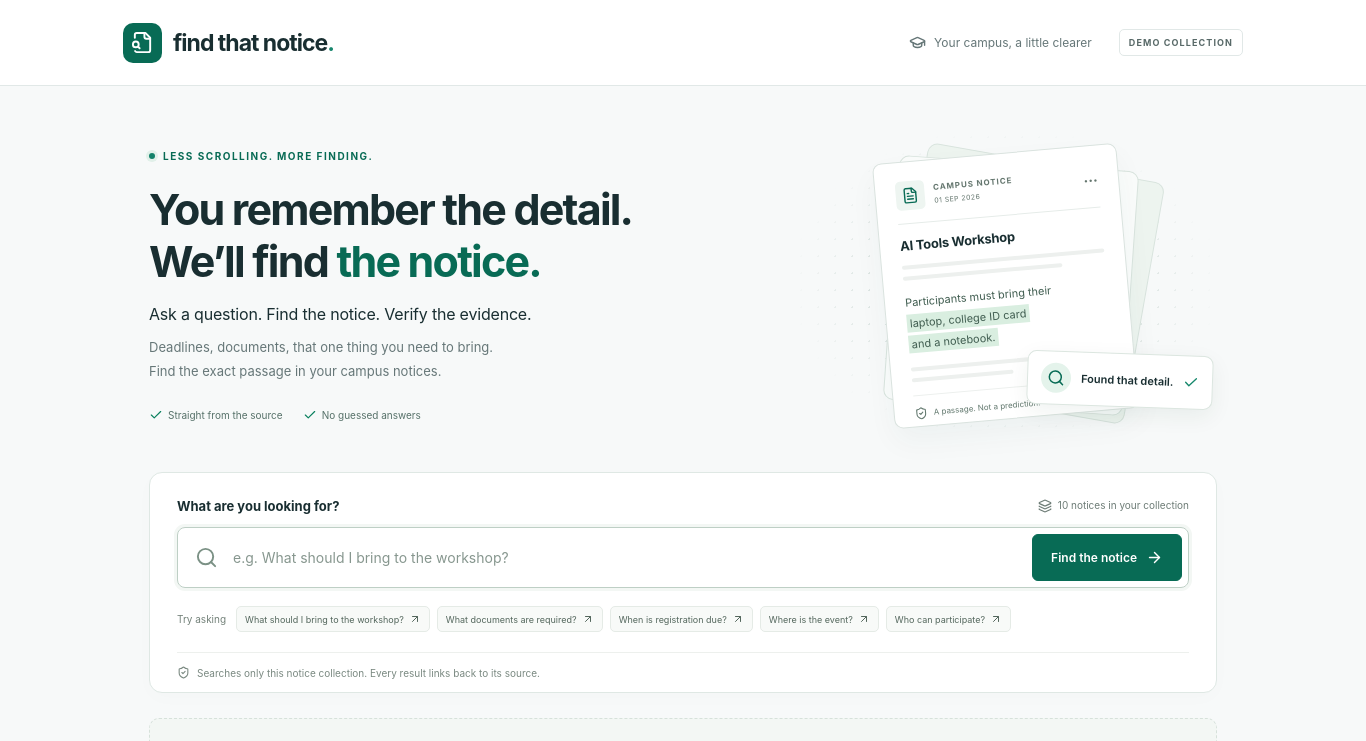
it: Evidence search › submits with the keyboard and rejects an empty question
Click the field at coordinates (625, 558), box [231,536,1019,580]
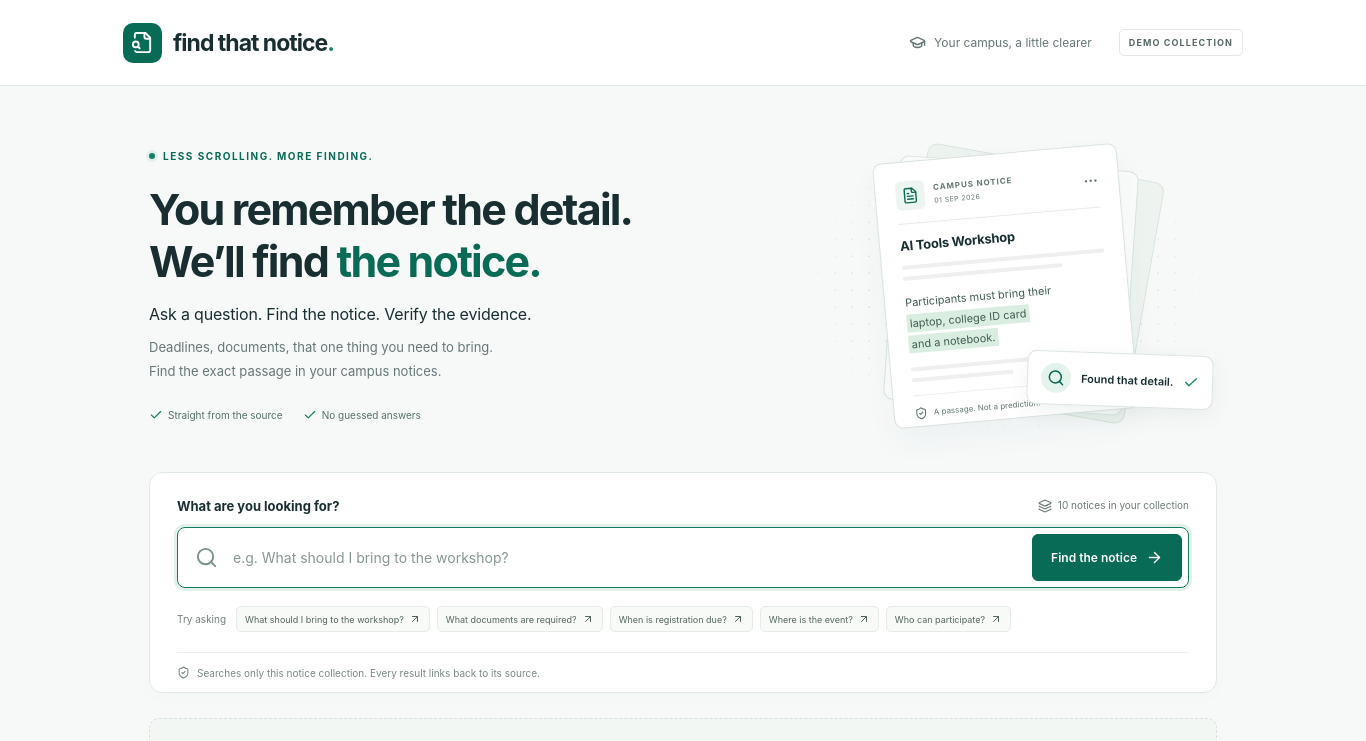
Press Enter
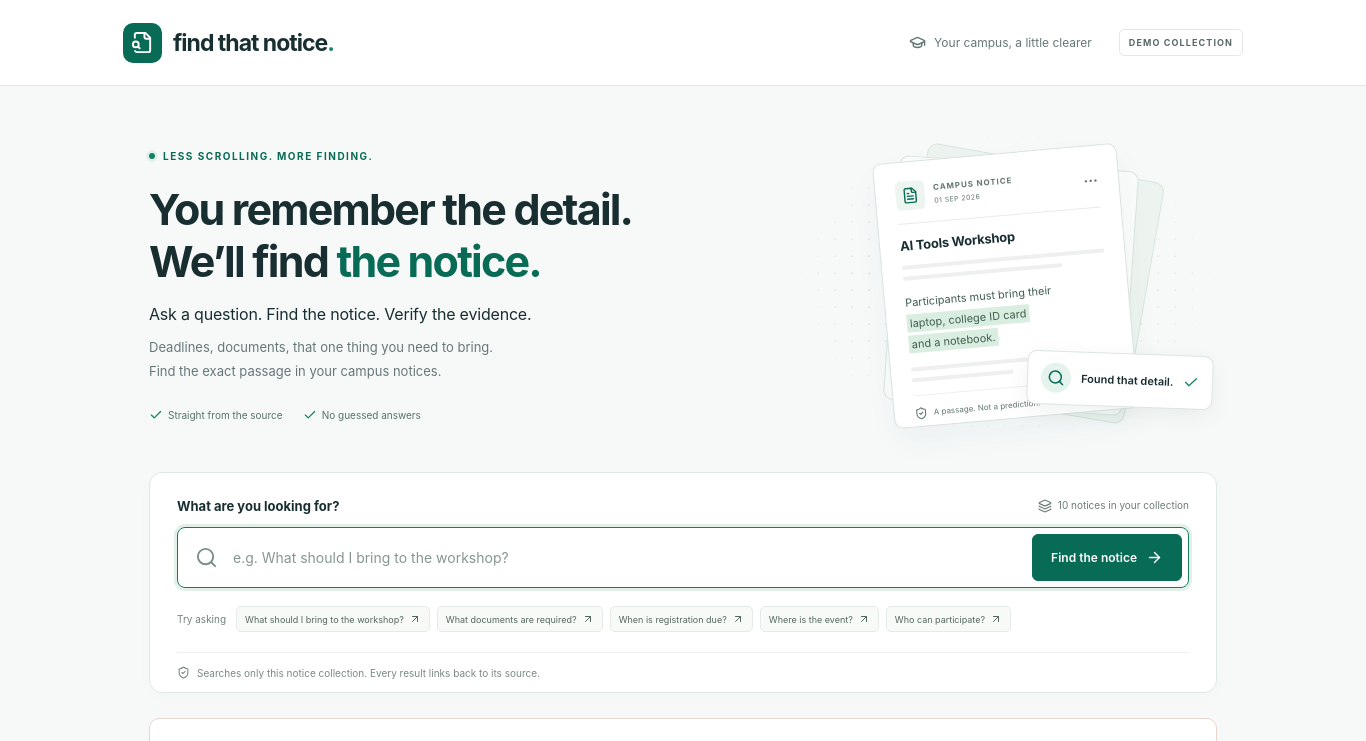
Type "What should I bring to the workshop?" into the field at coordinates (625, 558), box [231,536,1019,580]
Then press Enter
(page scrolled)
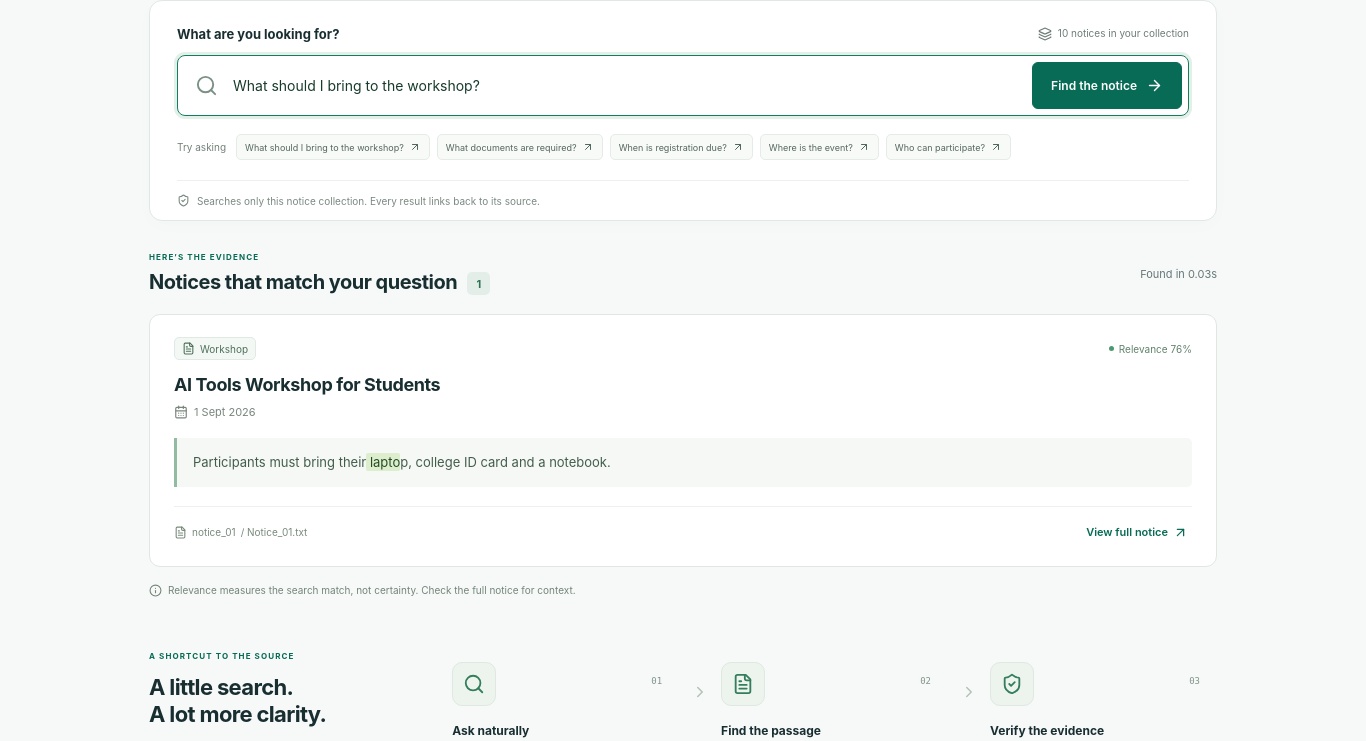
Now the heading "AI Tools Workshop for Students" is shown, box [174,374,440,395]
